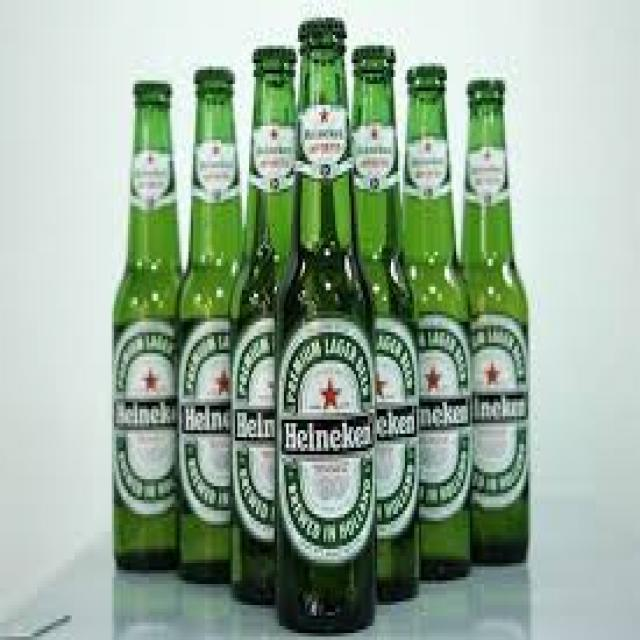Glass-Non-Biodegradable but Recyclable-: (274, 17, 376, 633)
